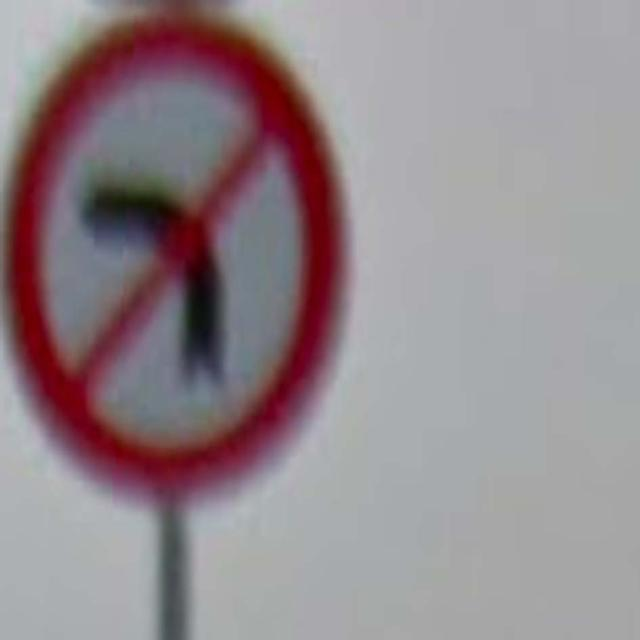soladonulmez: (12, 24, 331, 478)
